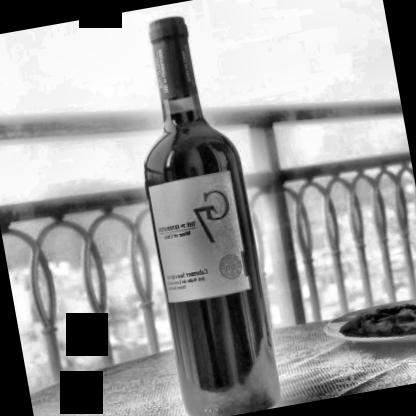G7: (146, 168, 253, 304)
